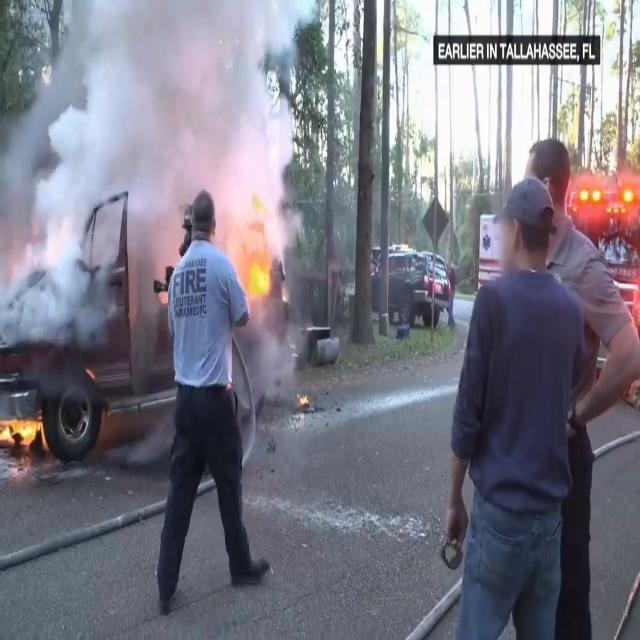Fire: (230, 238, 276, 308), (0, 405, 46, 452)
Smoke: (0, 0, 298, 295)
